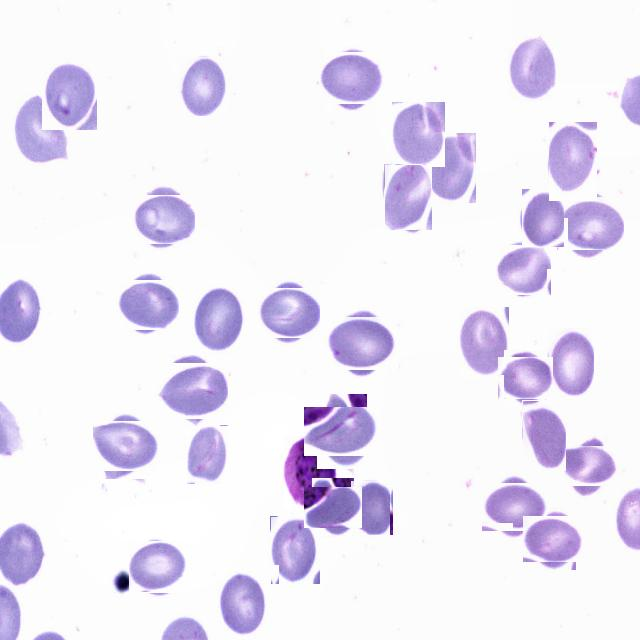red blood cell: (160, 359, 224, 424), (329, 311, 393, 375), (14, 96, 70, 168), (311, 400, 374, 463), (42, 60, 97, 130), (549, 122, 597, 201), (423, 133, 476, 203), (561, 193, 621, 254), (506, 32, 558, 102), (322, 48, 382, 108), (459, 307, 509, 379), (193, 286, 246, 353), (392, 102, 445, 167), (270, 516, 320, 584), (218, 571, 270, 636), (118, 276, 176, 334), (96, 417, 154, 475), (260, 285, 318, 342), (486, 478, 542, 536), (134, 192, 192, 248), (384, 164, 432, 230), (548, 328, 594, 396), (522, 400, 566, 471), (177, 56, 227, 116), (130, 540, 185, 594), (560, 439, 614, 493), (496, 244, 550, 297), (526, 513, 580, 566), (308, 482, 358, 532), (186, 425, 228, 484), (500, 353, 550, 402), (522, 189, 564, 247), (350, 480, 393, 535)
trophozoite: (284, 435, 337, 509)
